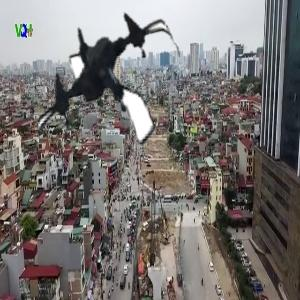drone: (26, 2, 188, 164)
